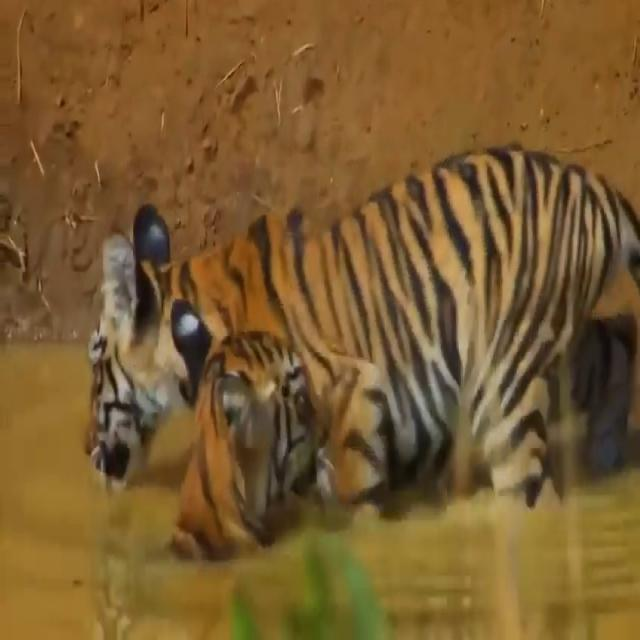tiger: (85, 147, 640, 513)
